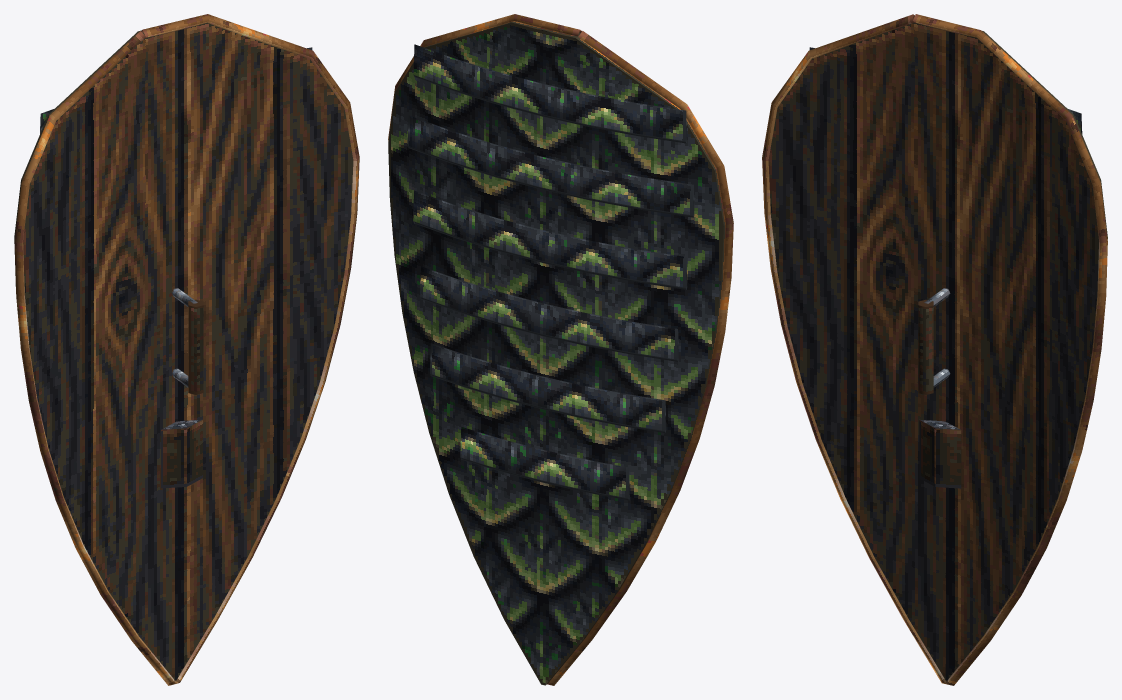
Rendered from scale_kite.glb.
The picture shows the model from 3 angles, left to right: view 1: azimuth 30°, elevation 25°; view 2: azimuth 150°, elevation 25°; view 3: azimuth 330°, elevation 25°; orthographic projection.
Parts seen in each view (by area): view 1: scale_kite; view 2: scale_kite; view 3: scale_kite.
Boxes of the visible parts, x1=… form: scale_kite: x1=14, y1=14, x2=359, y2=685; scale_kite: x1=388, y1=14, x2=733, y2=685; scale_kite: x1=762, y1=14, x2=1107, y2=685.
Bounding box in the file's own units: 0.4939 × 0.9053 × 0.0805.
1 material, 1 textured.
